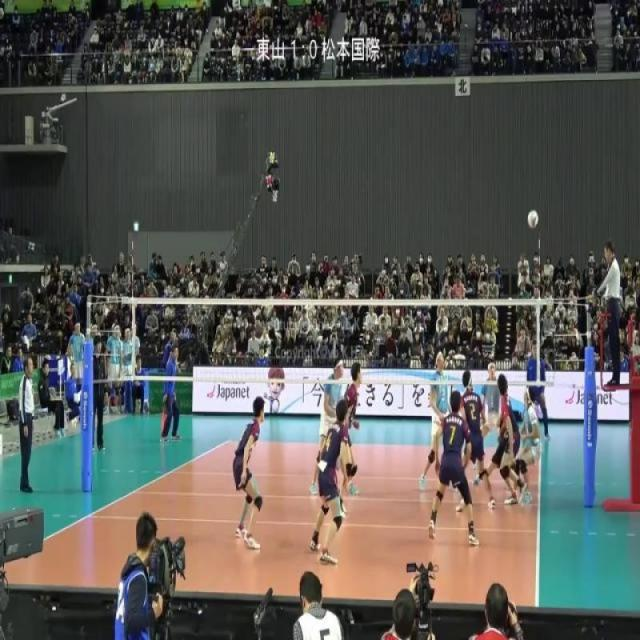volleyball: (527, 208, 539, 228)
